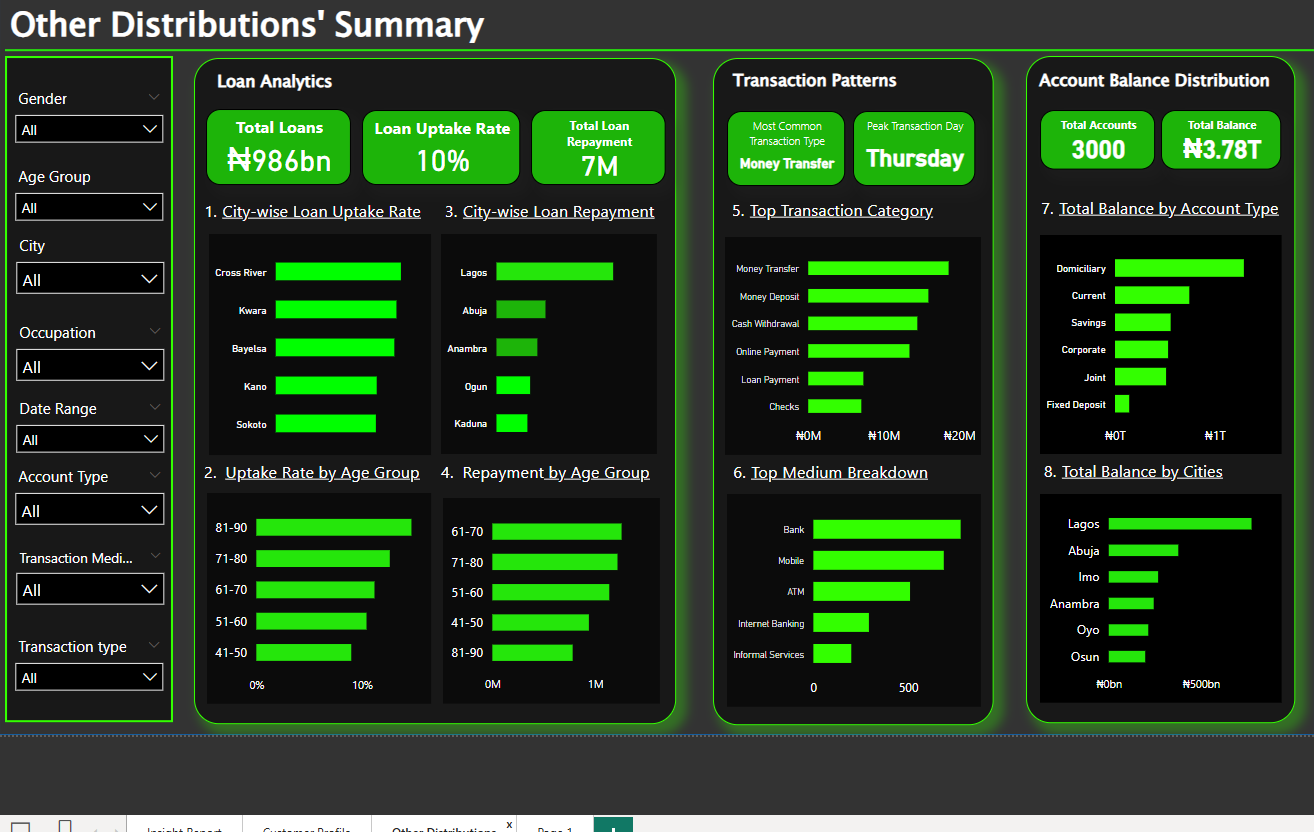

The page's visual inventory and layout, read from the dashboard file:
{"tool":"powerbi","page":{"name":"Other Distributions","canvas":[1280,720],"ordinal":2},"visuals":[{"type":"shape","box":[0,0,1280,720],"z":0},{"type":"shape","box":[5.6,59.8,163.5,648.5],"z":1000},{"type":"shape","box":[189.8,61.2,469.1,648.2],"z":2000},{"type":"shape","box":[694.3,61.2,273.1,649.1],"z":3000},{"type":"shape","box":[999.3,59.4,261.6,649.1],"z":4000},{"type":"textbox","box":[193.5,65.8,149.3,41.3],"z":5000},{"type":"barChart","fields":{"Category":["Customer.Age Groups"],"Y":["Loan.Loan Uptake Rate (%)"]},"box":[202.2,484.1,218.1,204.8],"z":6000},{"type":"slicer","fields":{"Values":["Customer.Sex"]},"box":[5.6,84.6,163.5,71],"z":7000},{"type":"barChart","fields":{"Category":["Customer.City"],"Y":["Loan.Loan Uptake Rate (%)"]},"box":[203.9,232.3,216.4,214.6],"z":8000},{"type":"slicer","fields":{"Values":["Customer.City"]},"box":[6.8,227.8,163.5,84.6],"z":9000},{"type":"slicer","fields":{"Values":["Customer.Age Groups"]},"box":[5.6,160.1,163.5,67.7],"z":10000},{"type":"card","title":"Total Loans","fields":{"Values":["Sum(Loan.Bank Loans)"]},"box":[201.3,110.8,141,73.6],"z":11000},{"type":"textbox","box":[978.9,190.6,301.5,38.1],"z":12000},{"type":"textbox","box":[696.4,192.6,228.6,36],"z":13000},{"type":"shape","box":[5.6,41.7,1274.4,23.7],"z":14000},{"type":"card","title":"Loan Uptake Rate","fields":{"Values":["Loan.Loan Uptake Rate (%)"]},"box":[352.9,111.7,154.3,72.7],"z":15000},{"type":"textbox","box":[193.5,447,230.9,35.4],"z":16000},{"type":"textbox","box":[189.6,193.5,230.9,38.3],"z":17000},{"type":"textbox","box":[694.5,447,228.9,38.3],"z":18000},{"type":"slicer","fields":{"Values":["Customer.Occupation"]},"box":[6.8,312.4,163.5,84.6],"z":19000},{"type":"slicer","fields":{"Values":["Transaction.Date_of_transaction.Variation.Date Hierarchy.Year","Transaction.Date_of_transaction.Variation.Date Hierarchy.Quarter","Transaction.Date_of_transaction.Variation.Date Hierarchy.Month","Transaction.Date_of_transaction.Variation.Date Hierarchy.Day"]},"box":[6.8,385.7,163.5,66.5],"z":20000},{"type":"slicer","fields":{"Values":["Transaction.Transaction type"]},"box":[5.6,618,163.5,71],"z":21000},{"type":"textbox","box":[5.8,0,493.1,61.3],"z":22000},{"type":"textbox","box":[696.5,64.8,194.5,40.3],"z":23000},{"type":"textbox","box":[999.3,65.6,250,41.7],"z":24000},{"type":"barChart","fields":{"Category":["Transaction.Transaction type"],"Y":["Sum(Transaction.Amount)"]},"box":[705.8,235,249.2,211.9],"z":25000},{"type":"card","title":"Most Common Transaction Type","fields":{"Values":["Transaction.Most Common Transaction Type"]},"box":[708.3,113,114.9,72.7],"z":26000},{"type":"card","title":"Peak Transaction Day","fields":{"Values":["Transaction.Peak Transaction Day"]},"box":[831.1,113,118.9,72.7],"z":27000},{"type":"slicer","fields":{"Values":["Transaction.Transaction Medium"]},"box":[6.8,533.4,163.5,84.6],"z":28000},{"type":"slicer","fields":{"Values":["Accounts.Account Type"]},"box":[5.6,452.2,164.7,74.4],"z":29000},{"type":"barChart","fields":{"Category":["Transaction.Transaction Medium"],"Y":["CountNonNull(Transaction.Transaction_id)"]},"box":[708.5,485,246.5,206.6],"z":30000},{"type":"clusteredBarChart","fields":{"Category":["Accounts.Account Type"],"Y":["Sum(Accounts.Opening Balance)"]},"box":[1012.8,233.8,234.8,213.2],"z":31000},{"type":"textbox","box":[1005.5,446.9,195.1,39],"z":32000},{"type":"card","title":"Total Accounts","fields":{"Values":["Count(Accounts.Account Number)"]},"box":[1012.8,112,112,58],"z":33000},{"type":"card","title":"Total Balance","fields":{"Values":["Sum(Accounts.Opening Balance)"]},"box":[1130.7,112,116.9,58],"z":34000},{"type":"barChart","fields":{"Y":["Sum(Accounts.Opening Balance)"],"Category":["Customer.City"]},"box":[1012.8,485.3,234.8,203.3],"z":35000},{"type":"card","title":"Total Loan Repayment","fields":{"Values":["Transaction.TotalLoanRepayment"]},"box":[517.8,111.7,131.2,72.7],"z":36000},{"type":"barChart","fields":{"Category":["Customer.Age Groups"],"Y":["Transaction.TotalLoanRepayment"]},"box":[431.8,489.5,211,199.5],"z":37000},{"type":"barChart","fields":{"Category":["Customer.City"],"Y":["Transaction.TotalLoanRepayment"]},"box":[430.3,232.8,210.2,214.2],"z":38000},{"type":"textbox","box":[420.4,193.5,230.9,38.3],"z":39000},{"type":"textbox","box":[424.4,447,230.9,35.4],"z":40000}]}

Visuals, with their boxes on the page's 1280x720 design canvas (x1, y1, x2, y2). These are canvas units, not pixel positions in the 1314x832 screenshot, which may show the page scaled, cropped or inside an application window:
shape: l=0, t=0, r=1280, b=720
shape: l=6, t=60, r=169, b=708
shape: l=190, t=61, r=659, b=709
shape: l=694, t=61, r=967, b=710
shape: l=999, t=59, r=1261, b=708
textbox: l=194, t=66, r=343, b=107
barChart - Customer.Age Groups x Loan.Loan Uptake Rate (%): l=202, t=484, r=420, b=689
slicer - Customer.Sex: l=6, t=85, r=169, b=156
barChart - Customer.City x Loan.Loan Uptake Rate (%): l=204, t=232, r=420, b=447
slicer - Customer.City: l=7, t=228, r=170, b=312
slicer - Customer.Age Groups: l=6, t=160, r=169, b=228
"Total Loans" card: l=201, t=111, r=342, b=184
textbox: l=979, t=191, r=1280, b=229
textbox: l=696, t=193, r=925, b=229
shape: l=6, t=42, r=1280, b=65
"Loan Uptake Rate" card: l=353, t=112, r=507, b=184
textbox: l=194, t=447, r=424, b=482
textbox: l=190, t=194, r=420, b=232
textbox: l=694, t=447, r=923, b=485
slicer - Customer.Occupation: l=7, t=312, r=170, b=397
slicer - Transaction.Date_of_transaction.Variation.Date Hierarchy.Year x Transaction.Date_of_transaction.Variation.Date Hierarchy.Quarter: l=7, t=386, r=170, b=452
slicer - Transaction.Transaction type: l=6, t=618, r=169, b=689
textbox: l=6, t=0, r=499, b=61
textbox: l=696, t=65, r=891, b=105
textbox: l=999, t=66, r=1249, b=107
barChart - Transaction.Transaction type x Sum(Transaction.Amount): l=706, t=235, r=955, b=447
"Most Common Transaction Type" card: l=708, t=113, r=823, b=186
"Peak Transaction Day" card: l=831, t=113, r=950, b=186
slicer - Transaction.Transaction Medium: l=7, t=533, r=170, b=618
slicer - Accounts.Account Type: l=6, t=452, r=170, b=527
barChart - Transaction.Transaction Medium x CountNonNull(Transaction.Transaction_id): l=708, t=485, r=955, b=692
clusteredBarChart - Accounts.Account Type x Sum(Accounts.Opening Balance): l=1013, t=234, r=1248, b=447
textbox: l=1006, t=447, r=1201, b=486
"Total Accounts" card: l=1013, t=112, r=1125, b=170
"Total Balance" card: l=1131, t=112, r=1248, b=170
barChart - Sum(Accounts.Opening Balance) x Customer.City: l=1013, t=485, r=1248, b=689
"Total Loan Repayment" card: l=518, t=112, r=649, b=184
barChart - Customer.Age Groups x Transaction.TotalLoanRepayment: l=432, t=490, r=643, b=689
barChart - Customer.City x Transaction.TotalLoanRepayment: l=430, t=233, r=640, b=447
textbox: l=420, t=194, r=651, b=232
textbox: l=424, t=447, r=655, b=482
